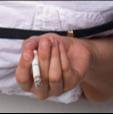Cigarette: (31, 50, 40, 88)
